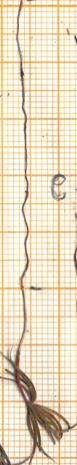flower: (4, 348, 71, 465)
root: (9, 5, 34, 288)
stem: (11, 287, 33, 403)
